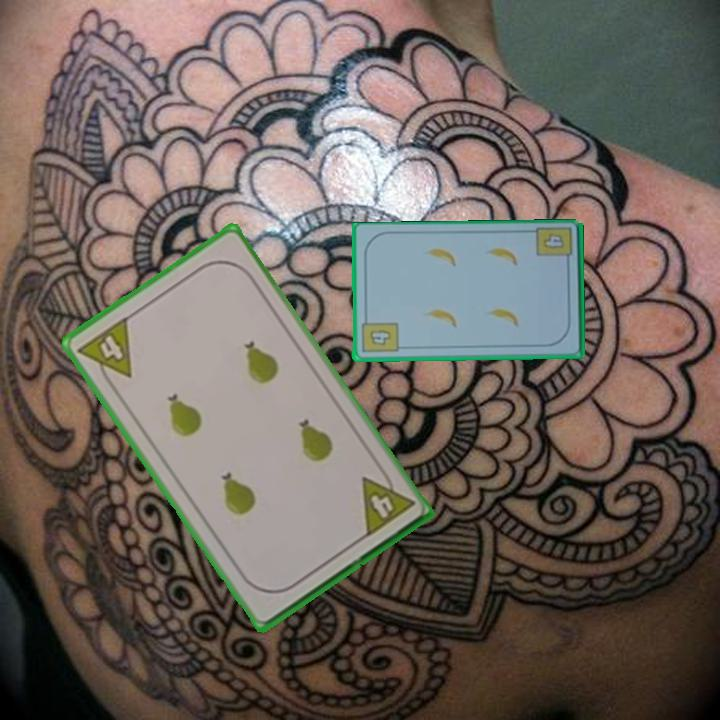4b: (533, 224, 575, 268), (358, 313, 400, 355)
4p: (73, 313, 135, 392), (357, 463, 417, 540)
